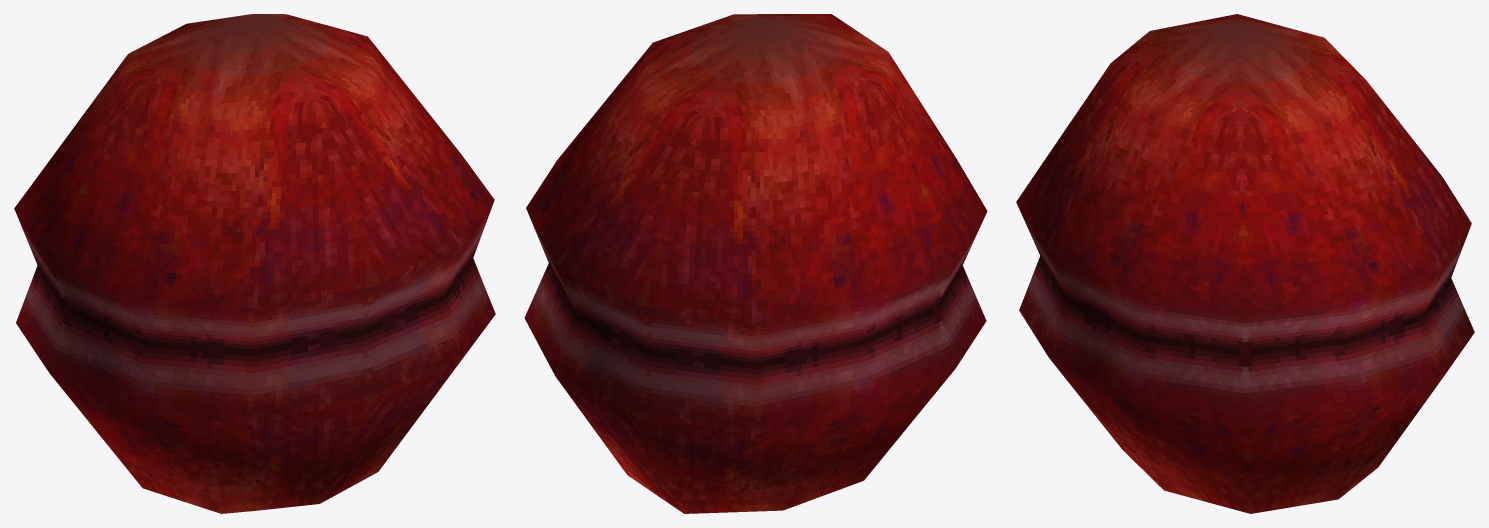
File: Seed.gltf
3 views of the same model, side by side, from view 1: azimuth 30°, elevation 25°; view 2: azimuth 150°, elevation 25°; view 3: azimuth 270°, elevation 25° (orthographic). The views are drawn at different scales.
Parts seen in each view (by area): view 1: SeedMesh; view 2: SeedMesh; view 3: SeedMesh.
Part boxes in pixels (x1,y1,x2,y2): SeedMesh: [14, 14, 495, 513]; SeedMesh: [524, 14, 987, 513]; SeedMesh: [1016, 14, 1474, 513].
Size of the model in its own units: 1.31 by 1.5 by 1.31.
1 material, 1 textured.
